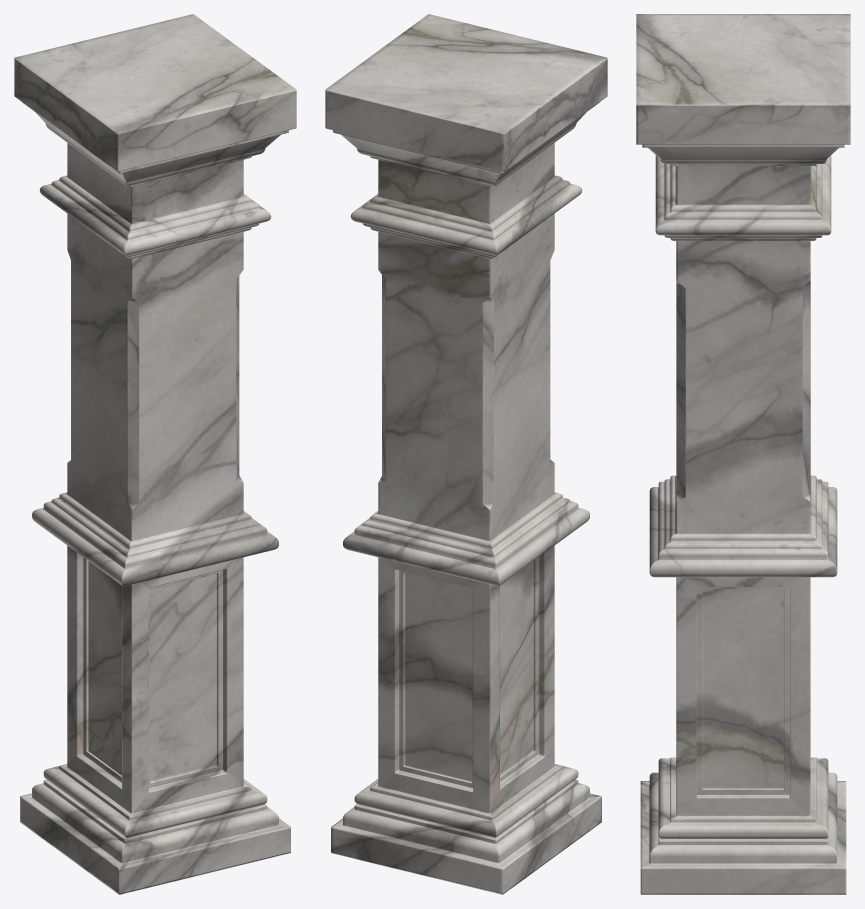
The model's file is statues.fbx.
3 renders of one model, left to right at view 1: azimuth 30°, elevation 25°; view 2: azimuth 150°, elevation 25°; view 3: azimuth 270°, elevation 25°, orthographic. The views are drawn at different scales.
Parts seen in each view (by area): view 1: palis_low; view 2: palis_low; view 3: palis_low.
Boxes of the visible parts, left/top/right/bottom form: palis_low: left=14, top=14, right=296, bottom=894; palis_low: left=325, top=14, right=607, bottom=894; palis_low: left=636, top=14, right=850, bottom=894.
Bounding box in the file's own units: 539 × 2198 × 539.
